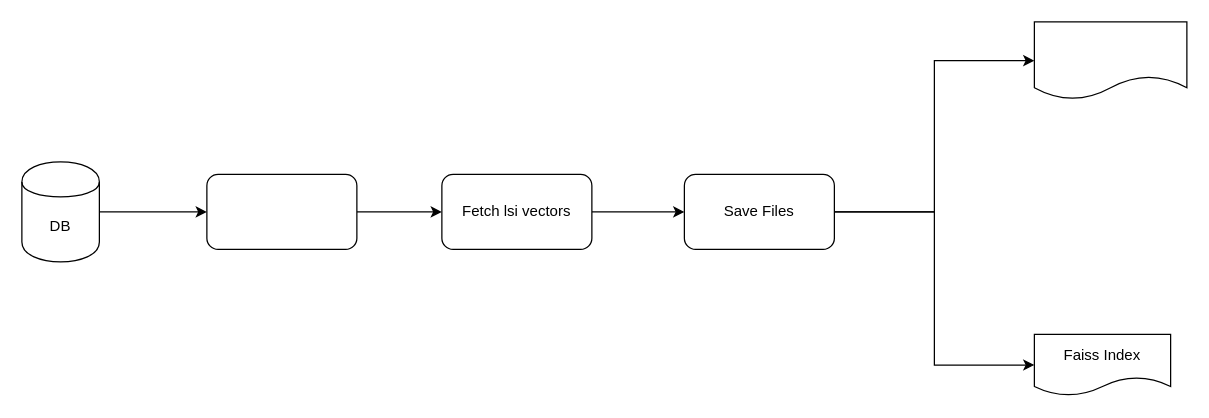
Image size: 1209x418. Some labels were removed from this diagram. Here are the shapes that lost their labels. From the top down, the centre of each, then its label:
At pixel 1110 60: "Uid list".
At pixel 281 211: "Get all users Data".
